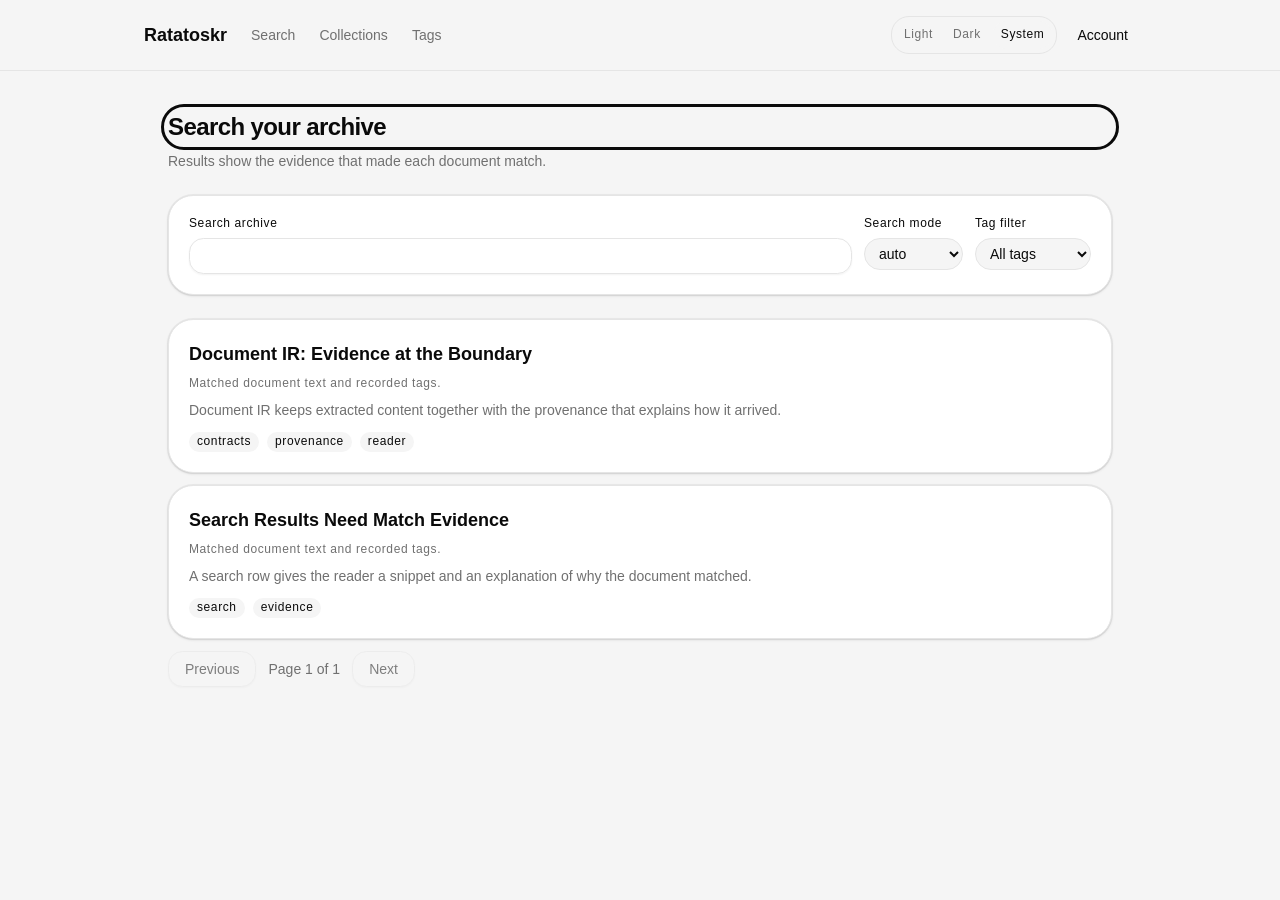
Scenario: document reader route › opens a result at its document reader route
Step 1. Click the link "Document IR: Evidence at the Boundary" → {"x": 361, "y": 354}, box 189,340 -> 532,368
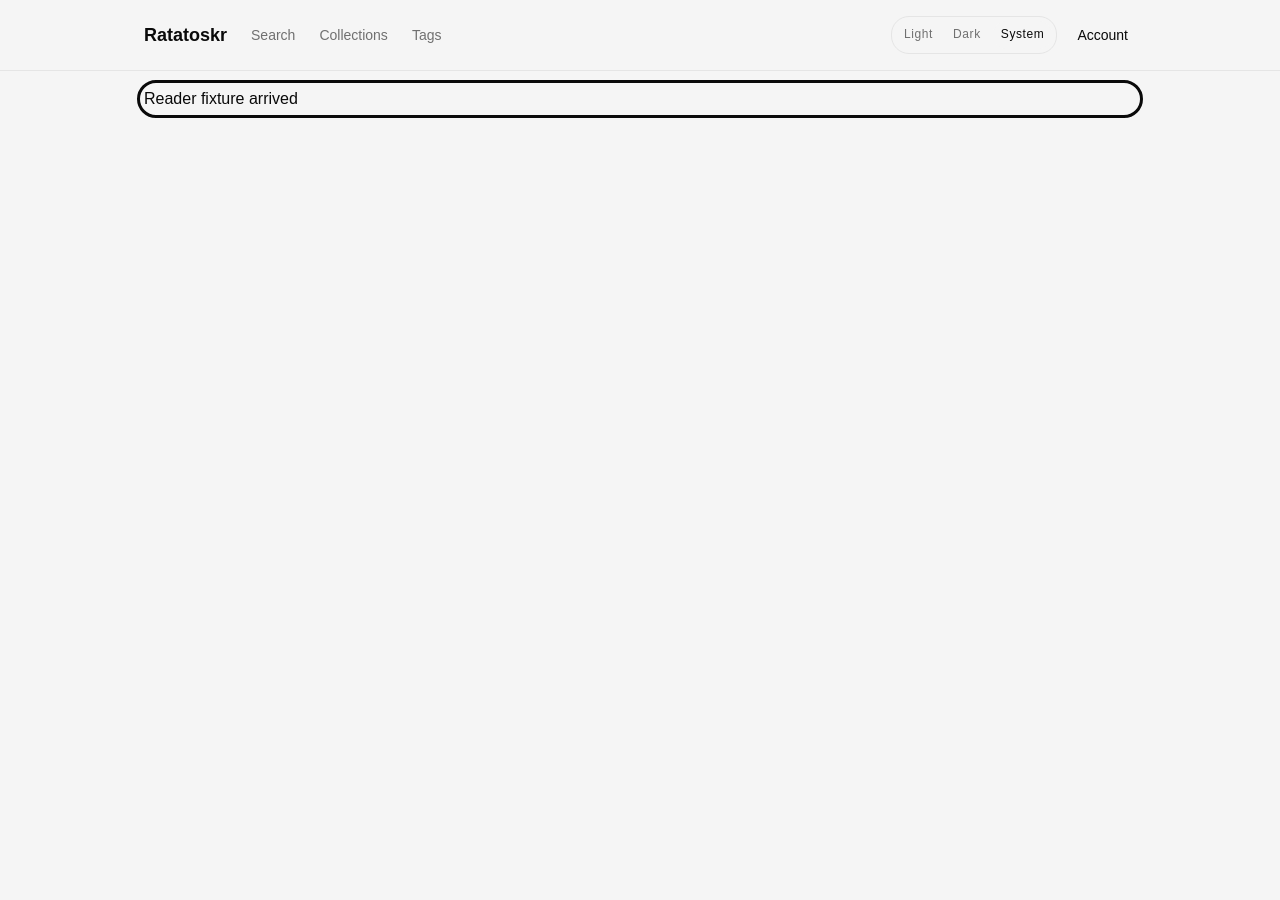
Now the heading "Reader fixture arrived" is shown, box 144,90 -> 298,107
